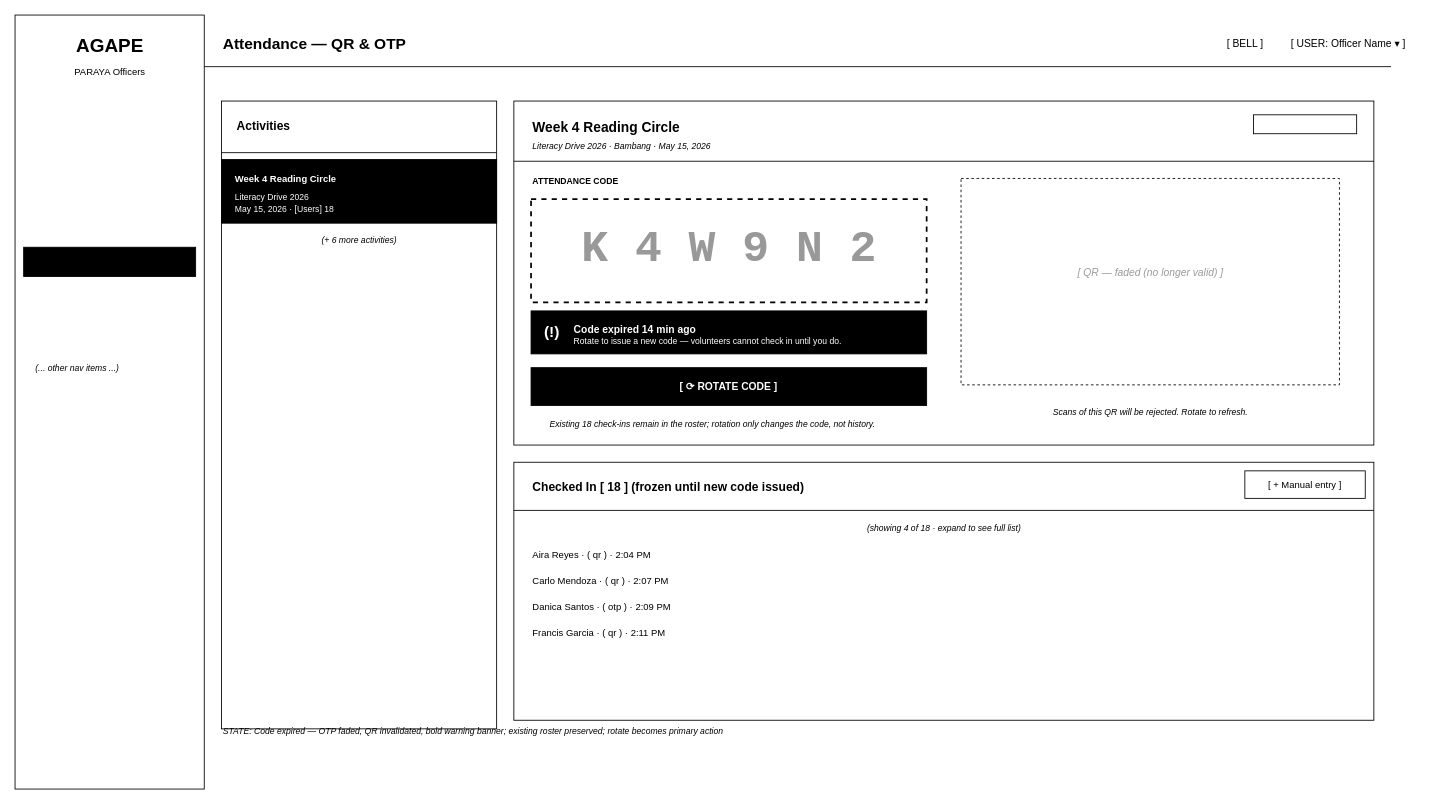
Some shapes in this 1441 by 804 pixel diagram are drawn without their labels. Here are the shapes that lost their labels. From the top down, the centre of each, then its label:
At (x=1305, y=124): "No active code".
At (x=109, y=261): "[x] Attendance".
